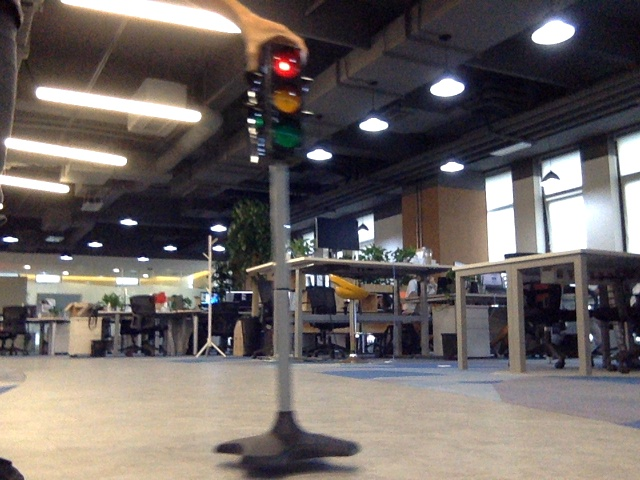red: (267, 51, 299, 146)
